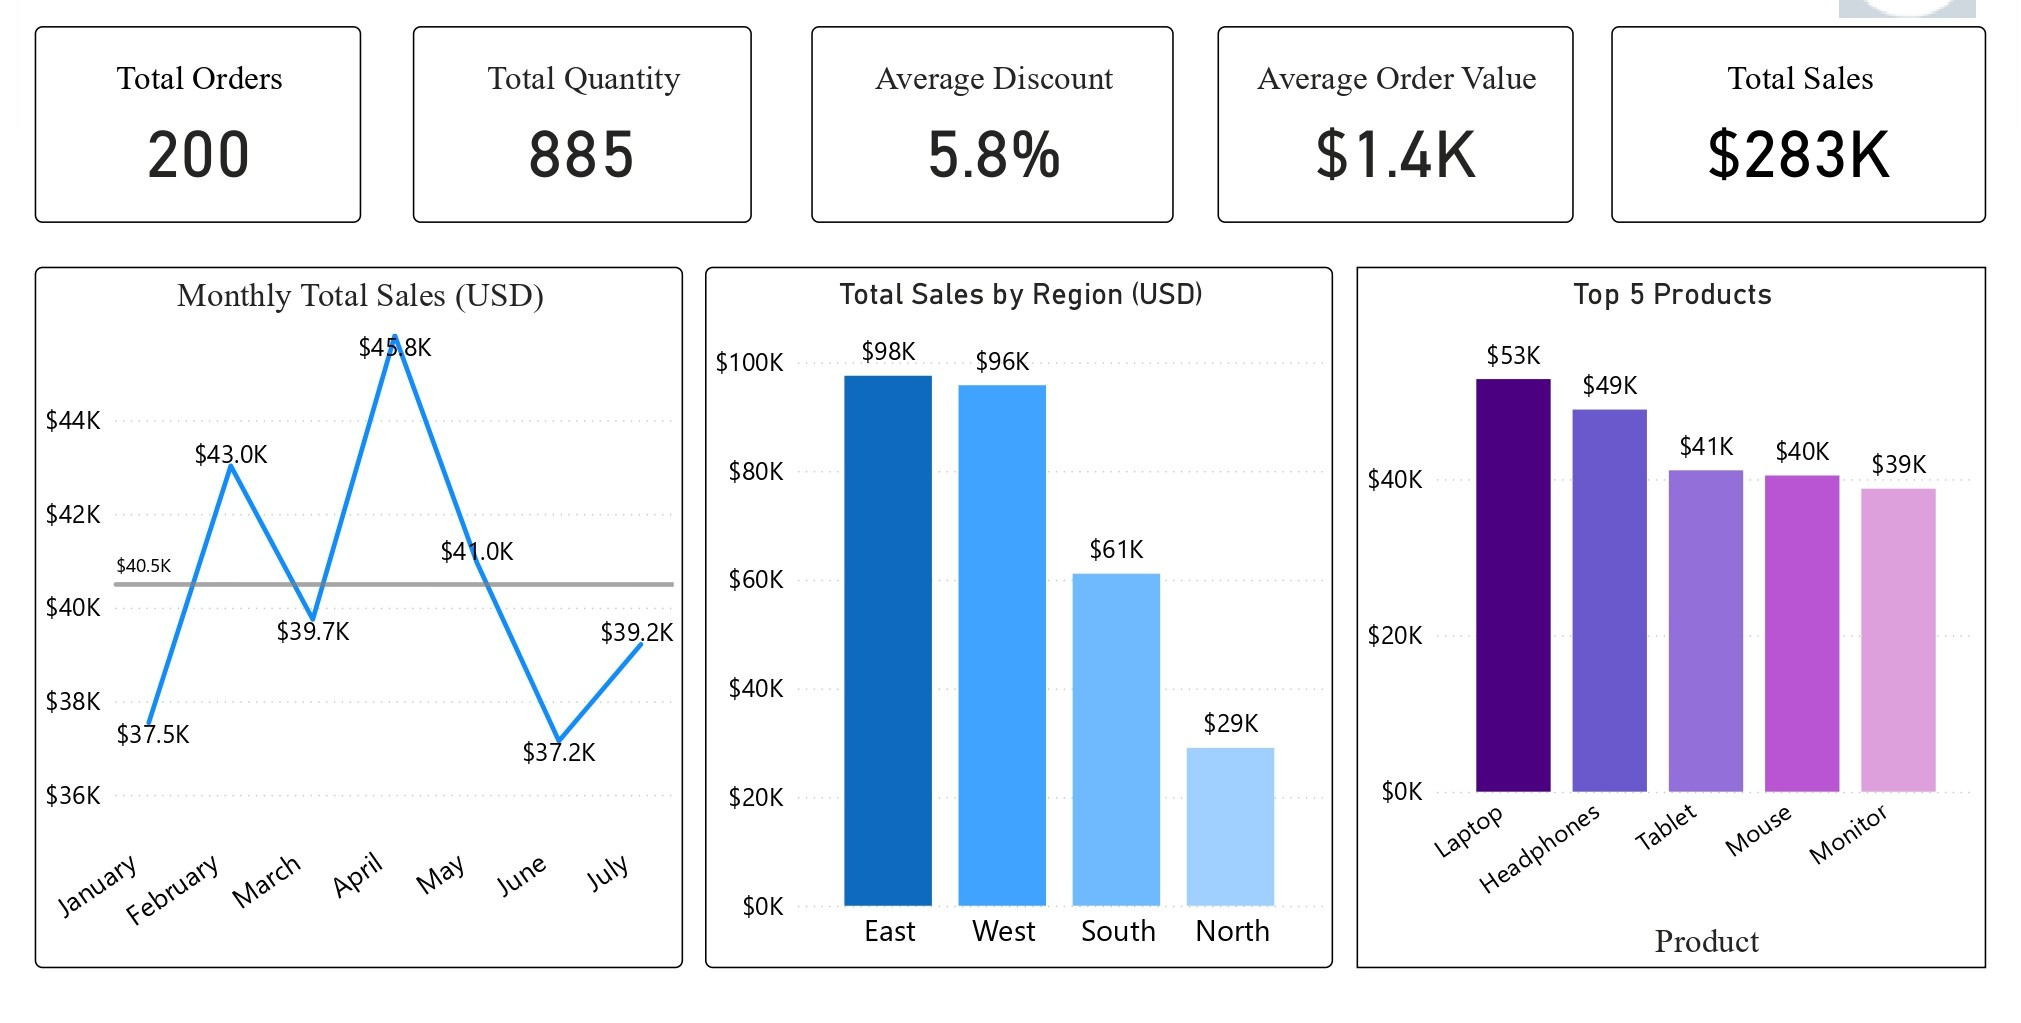

This screenshot's page, from the dashboard's own definition file:
{"tool":"powerbi","page":{"name":"Page 1","canvas":[1280,720],"ordinal":0},"visuals":[{"type":"textbox","box":[252.6,0,743.2,103],"z":0},{"type":"card","title":"Total Sales","fields":{"Values":["retail_sales_dirty.TotalSalesMeasure"]},"box":[1020.1,97.2,239.6,126.3],"z":1000},{"type":"card","title":"Total Orders","fields":{"Values":["retail_sales_dirty.TotalOrders"]},"box":[11.3,97.2,208.9,126.3],"z":2000},{"type":"card","title":"Total Quantity","fields":{"Values":["retail_sales_dirty.TotalQuantity"]},"box":[252.6,97.2,217,126.3],"z":3000},{"type":"card","title":"Average Order Value","fields":{"Values":["retail_sales_dirty.AverageOrderValue"]},"box":[767.5,97.2,228.3,126.3],"z":4000},{"type":"card","title":"Average Discount","fields":{"Values":["retail_sales_dirty.AverageDiscount"]},"box":[508.4,97.2,231.5,126.3],"z":5000},{"type":"lineChart","title":"Monthly Total Sales (USD)","fields":{"Category":["retail_sales_dirty.MonthName"],"Y":["retail_sales_dirty.TotalSalesMeasure"]},"box":[11.3,251,414.5,448.5],"z":6000},{"type":"columnChart","title":"Total Sales by Region (USD)","fields":{"Category":["retail_sales_dirty.Region"],"Y":["retail_sales_dirty.TotalSalesMeasure"]},"box":[440.4,251,401.6,448.5],"z":7000},{"type":"columnChart","title":"Top 5 Products","fields":{"Category":["retail_sales_dirty.Product"],"Y":["retail_sales_dirty.TotalSalesMeasure"]},"box":[856.6,251,403.2,448.5],"z":8000},{"type":"image","box":[1159.4,0,100.4,97.2],"z":8001}]}

Visuals, with their boxes on the page's 1280x720 design canvas (x1, y1, x2, y2). These are canvas units, not pixel positions in the 2021x1023 screenshot, which may show the page scaled, cropped or inside an application window:
textbox: x1=253, y1=0, x2=996, y2=103
"Total Sales" card: x1=1020, y1=97, x2=1260, y2=224
"Total Orders" card: x1=11, y1=97, x2=220, y2=224
"Total Quantity" card: x1=253, y1=97, x2=470, y2=224
"Average Order Value" card: x1=768, y1=97, x2=996, y2=224
"Average Discount" card: x1=508, y1=97, x2=740, y2=224
"Monthly Total Sales (USD)" lineChart: x1=11, y1=251, x2=426, y2=700
"Total Sales by Region (USD)" columnChart: x1=440, y1=251, x2=842, y2=700
"Top 5 Products" columnChart: x1=857, y1=251, x2=1260, y2=700
image: x1=1159, y1=0, x2=1260, y2=97
